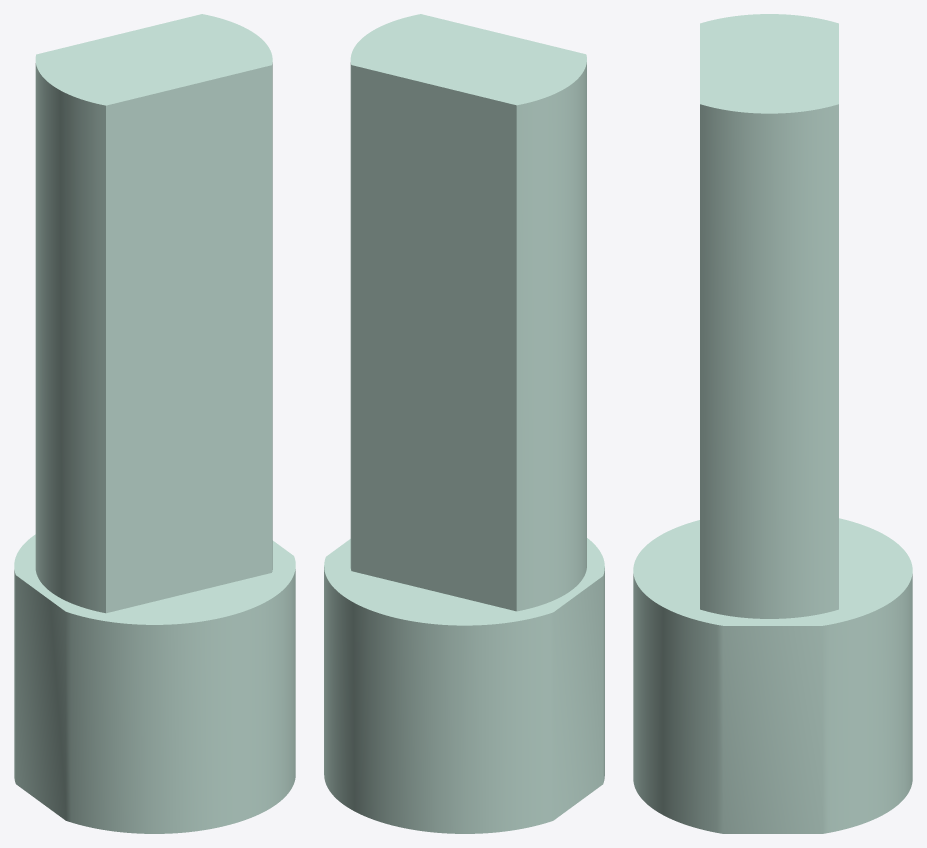
3 renders of one model, left to right at view 1: azimuth 30°, elevation 25°; view 2: azimuth 150°, elevation 25°; view 3: azimuth 270°, elevation 25°, orthographic.
Parts seen in each view (by area): view 1: Renderer Node; view 2: Renderer Node; view 3: Renderer Node.
Boxes of the visible parts, box(x1,y1,x2,y2) form: Renderer Node: box(14, 14, 295, 833); Renderer Node: box(324, 14, 604, 833); Renderer Node: box(633, 14, 912, 833).
Size of the model in its own units: 0.25 by 0.75 by 0.2662.
